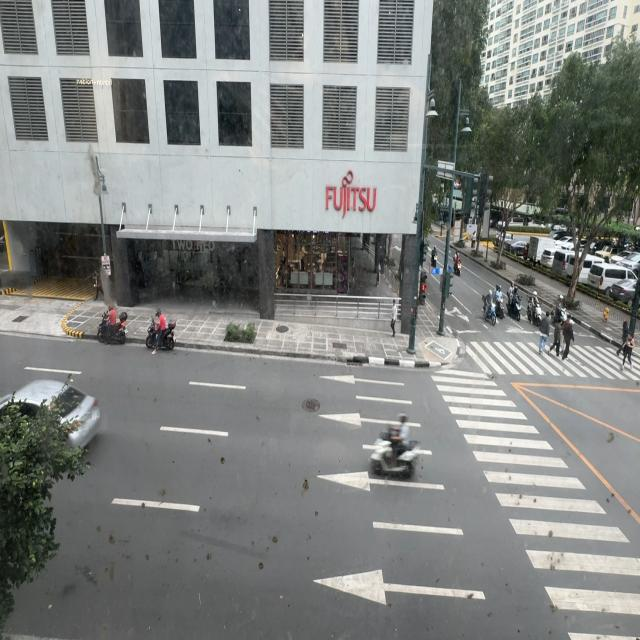crossing: (538, 310, 553, 356), (560, 316, 575, 361), (616, 320, 632, 359), (550, 311, 562, 356)
